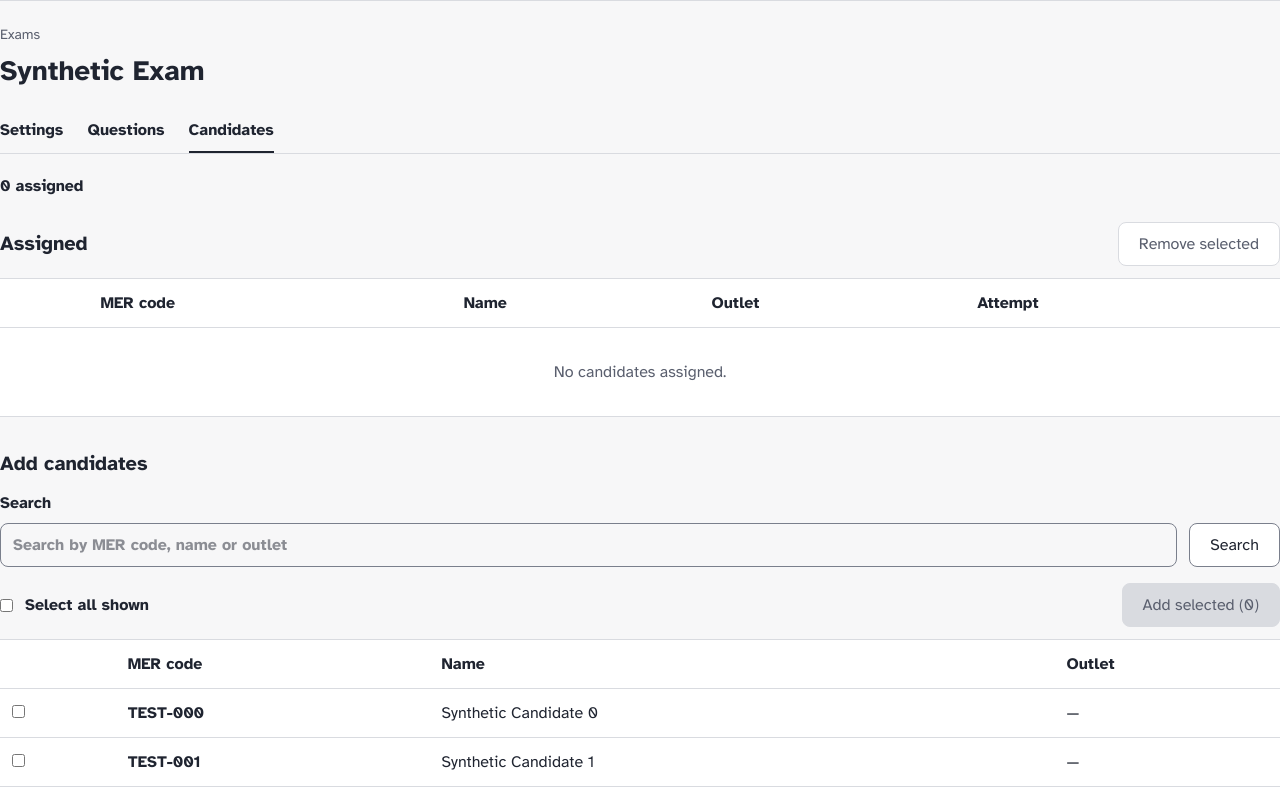
Test: ExamCandidates › sends 230 selected candidates in 100, 100 and 30 ID batches and aggregates totals
expect the checkbox named "Select available TEST-000" is shown: met, box [12,705,25,718]
Click the checkbox labelled "Select all shown": (6, 605) [0,598,13,612]
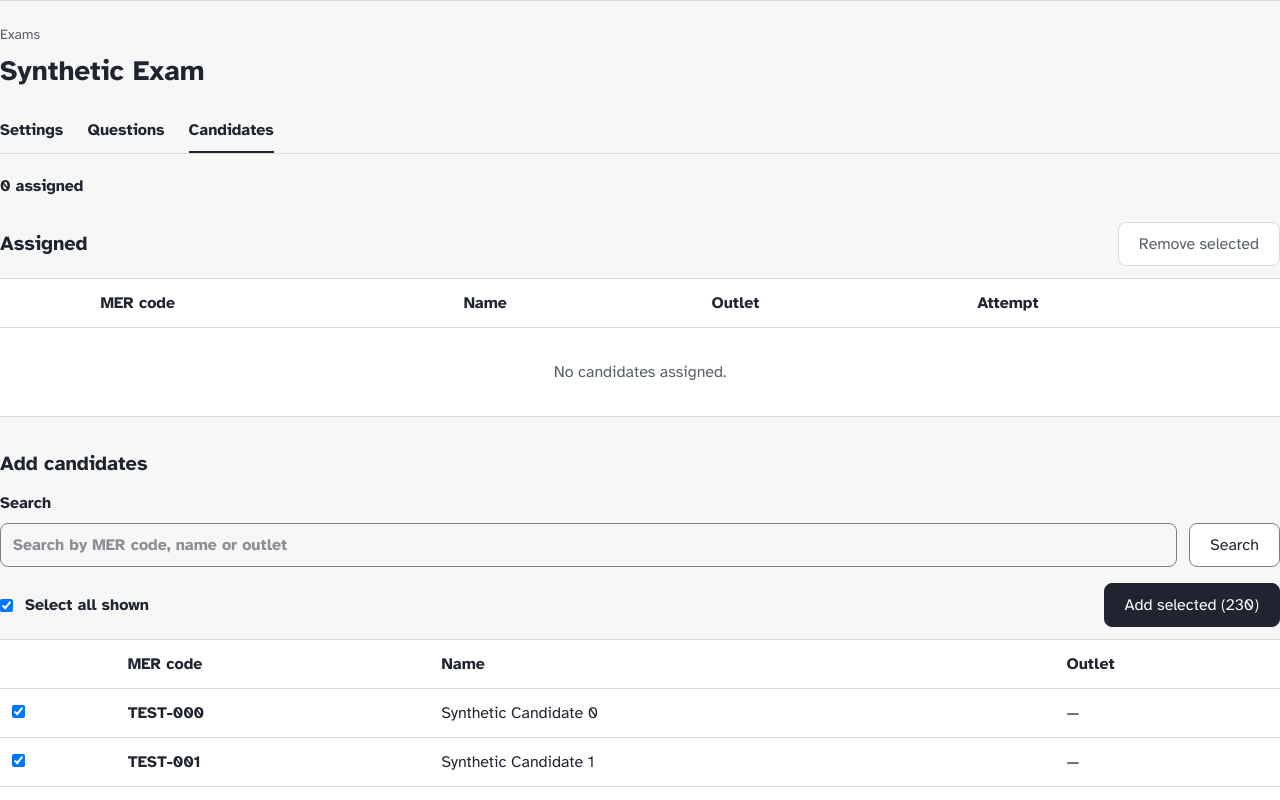
Click the button "Add selected (230)": (1192, 605) [1104,583,1279,627]
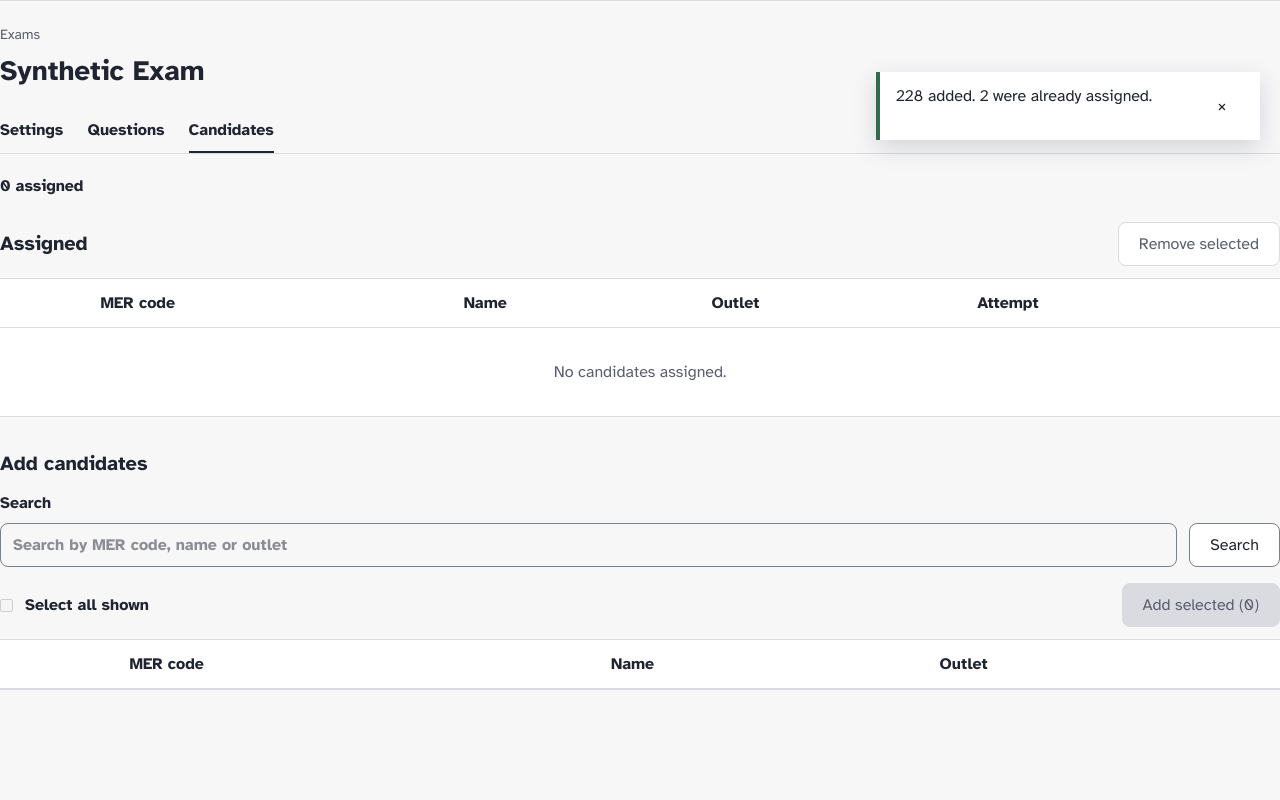
expect the text "228 added. 2 were already assigned." is shown: met, box [896,84,1152,108]
